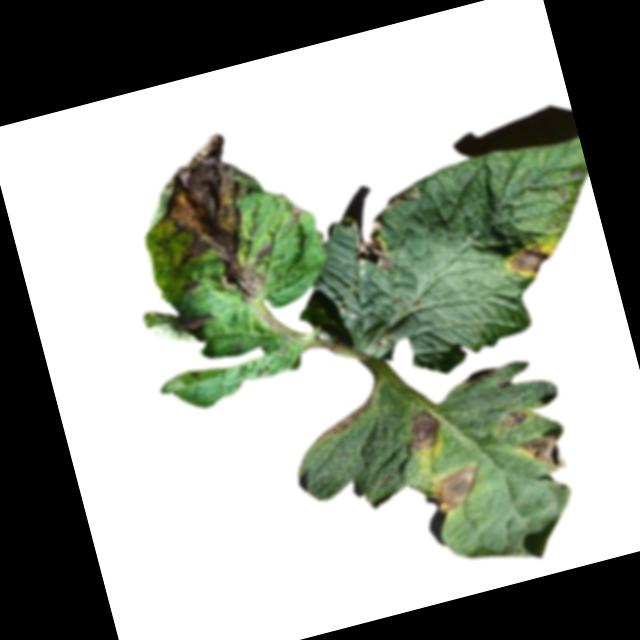Early_blight: (137, 125, 276, 317), (423, 460, 488, 517), (514, 423, 576, 479), (314, 395, 379, 441), (349, 214, 396, 277), (503, 238, 560, 282), (403, 408, 446, 455), (176, 308, 216, 336), (495, 405, 531, 432), (285, 202, 313, 228)
